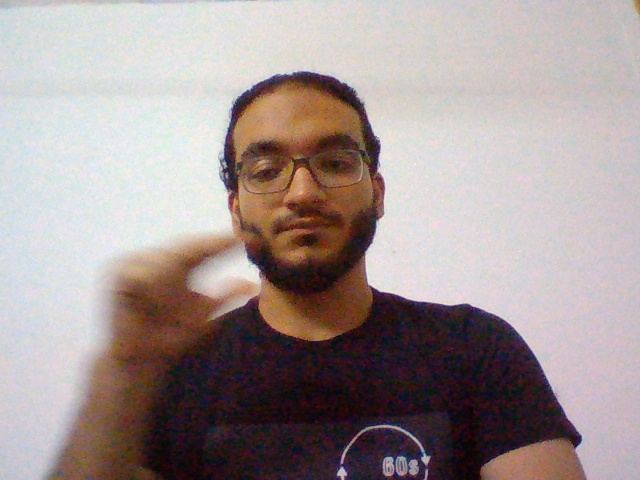No: (84, 221, 265, 380)
